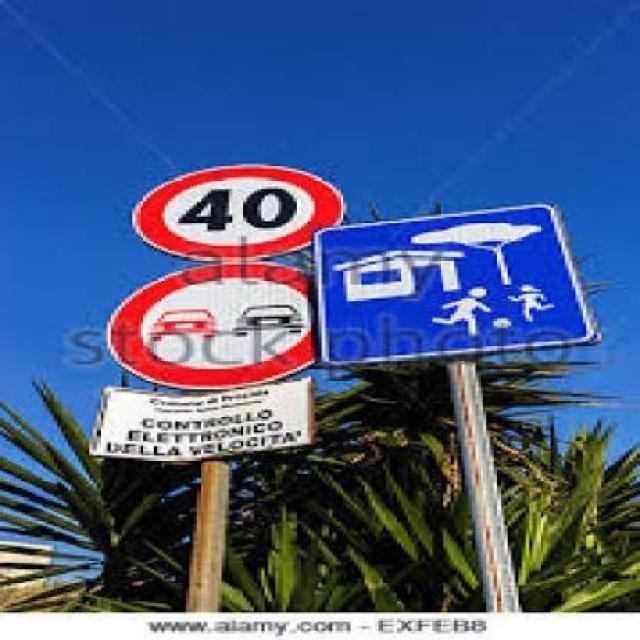forb_speed_over_40: (141, 165, 337, 256)
